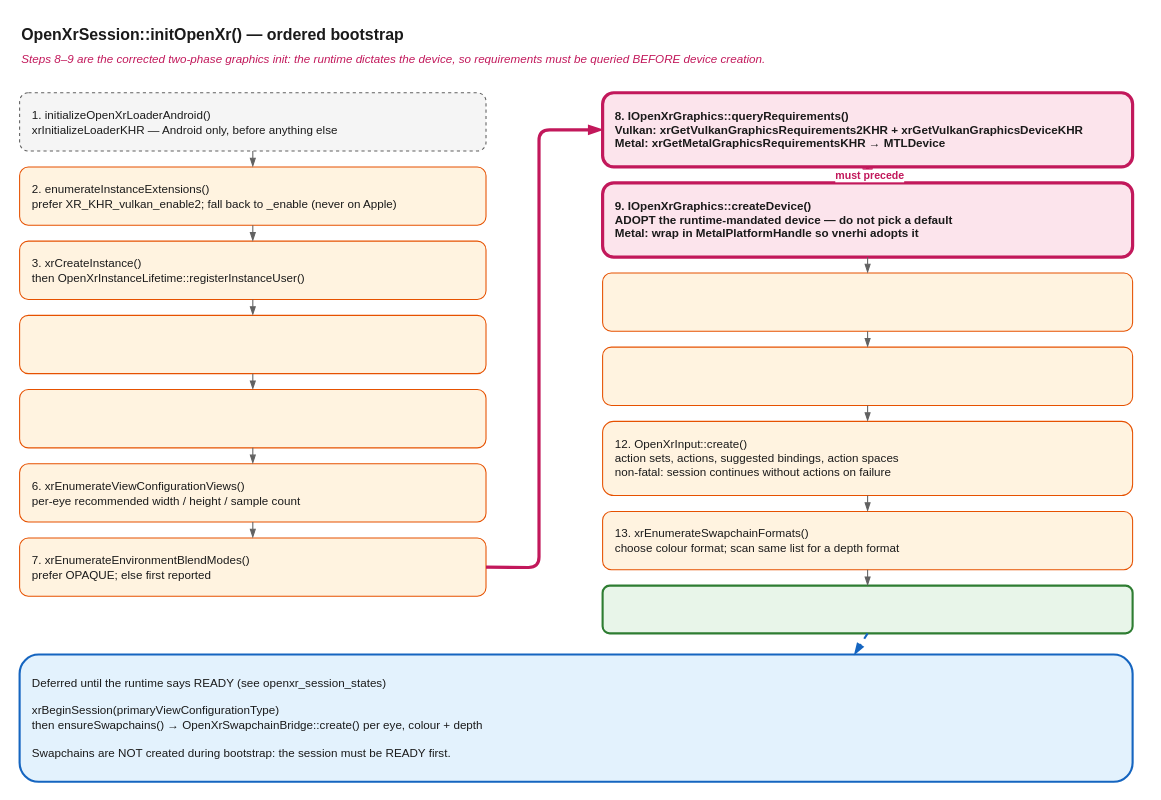
The diagram is 1161 pixels wide and 800 high, and some of its shapes have lost their labels. Here are the shapes that lost their labels. From the top down, the centre of each, then its label:
point (867, 301): 10. xrCreateSession() graphics binding passed via XrSessionCreateInfo::next
point (252, 344): 4. xrGetSystem() XR_FORM_FACTOR_HEAD_MOUNTED_DISPLAY → XrSystemId
point (867, 375): 11. xrCreateReferenceSpace() XR_REFERENCE_SPACE_TYPE_LOCAL, identity pose
point (252, 418): 5. xrEnumerateViewConfigurations() prefer PRIMARY_STEREO; else first reported
point (867, 609): 14. state = SessionState::eIdle — bootstrap complete
